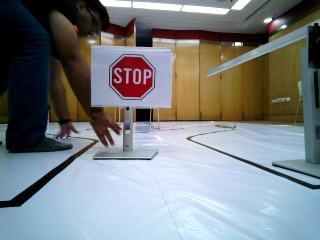stop: (95, 46, 166, 100)
